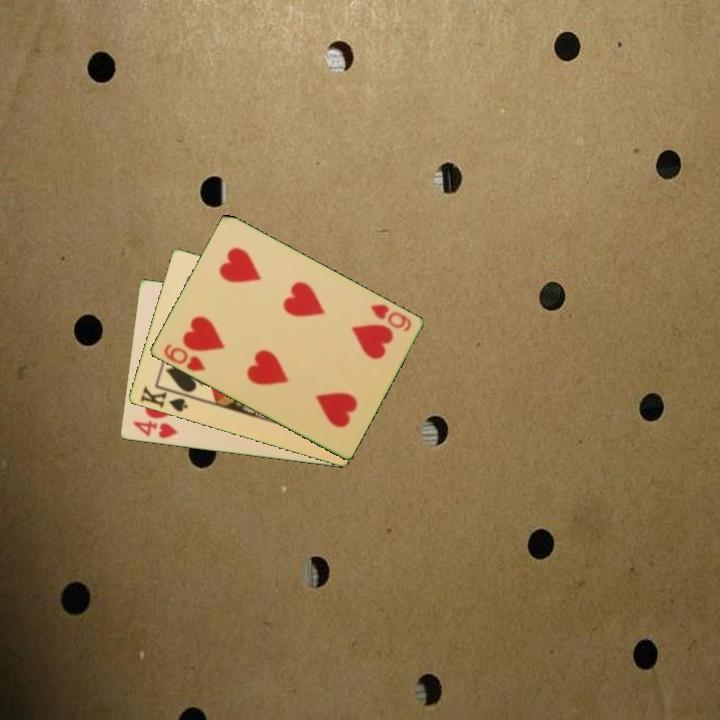4h: (129, 417, 180, 441)
6h: (367, 300, 414, 335), (160, 340, 208, 374)
Ks: (136, 383, 190, 415)
